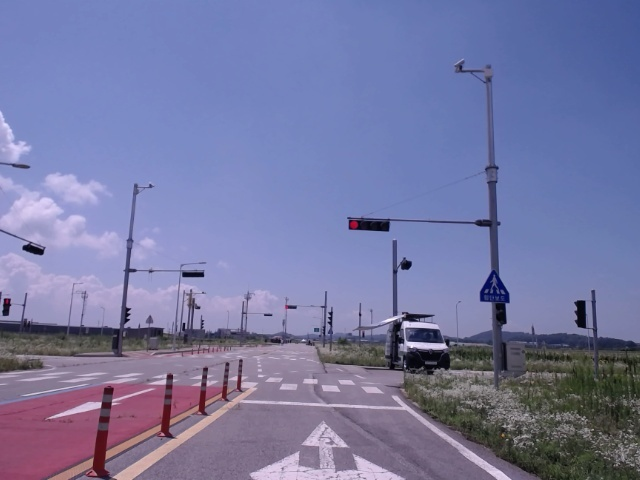red_4: (348, 220, 389, 231)
